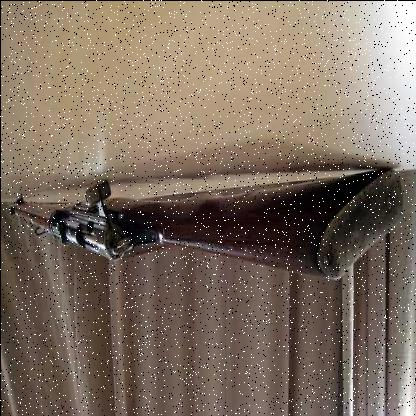rifle: (5, 144, 406, 303)
